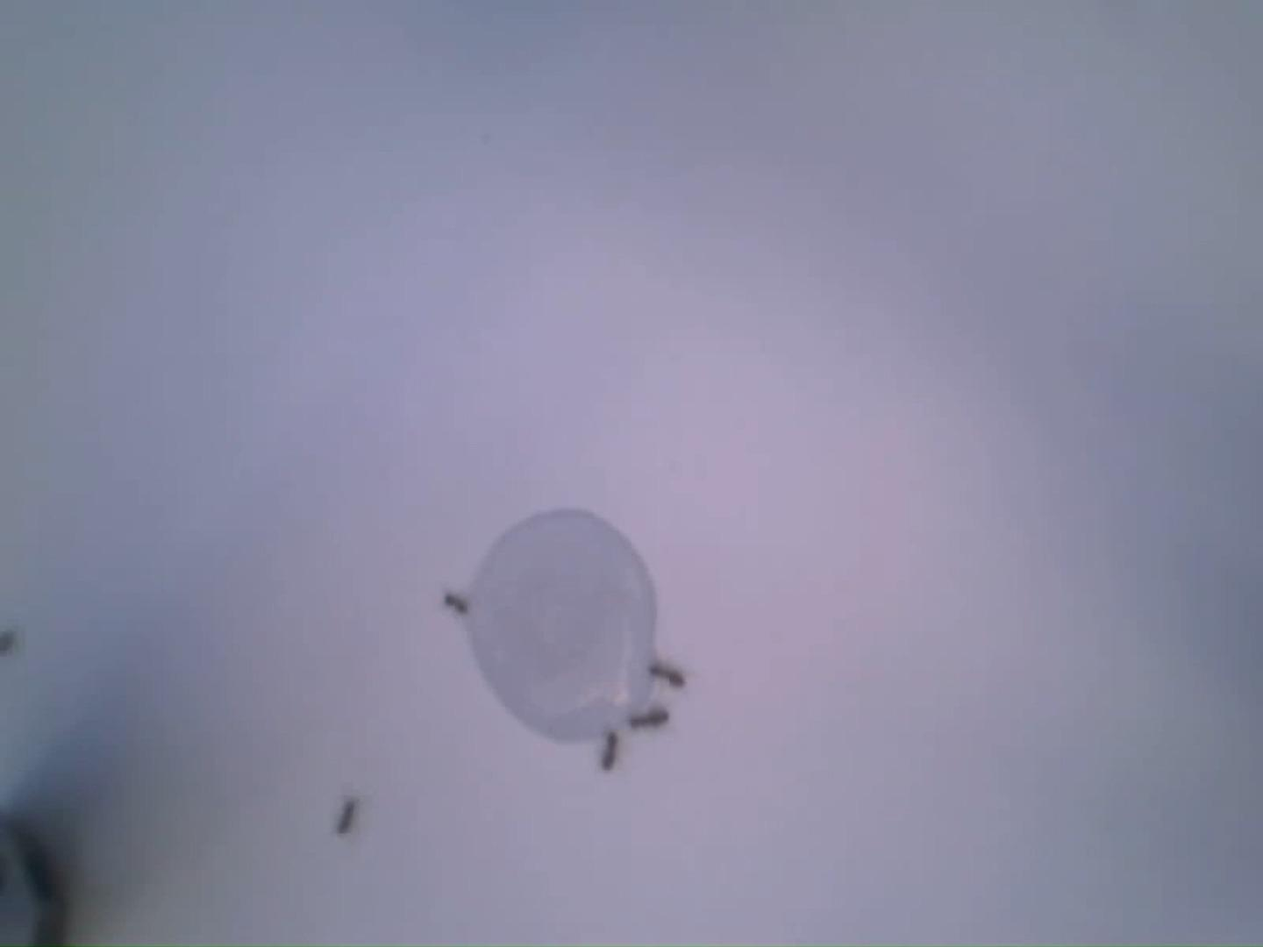Ant: (633, 704, 672, 729), (650, 661, 688, 686), (602, 730, 622, 771), (338, 796, 359, 834), (445, 592, 471, 613), (0, 629, 19, 655)
